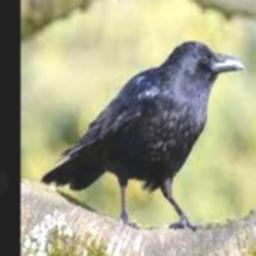Crow: (41, 41, 246, 231)
